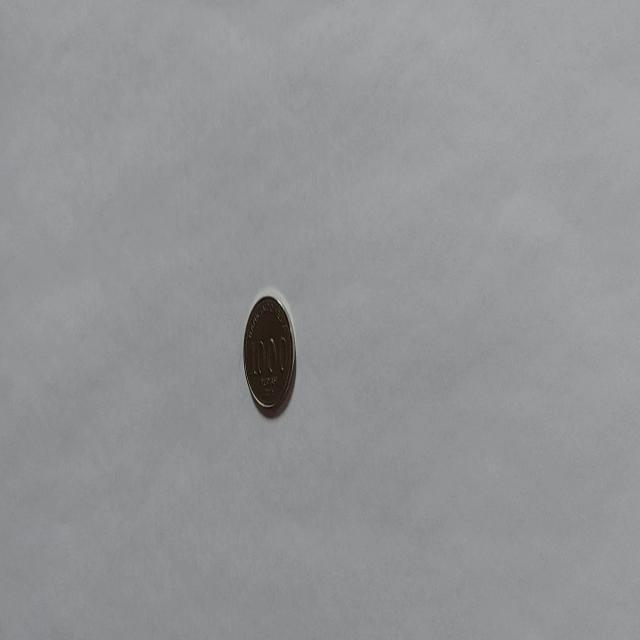seribu rupiah koin: (242, 290, 296, 416)
